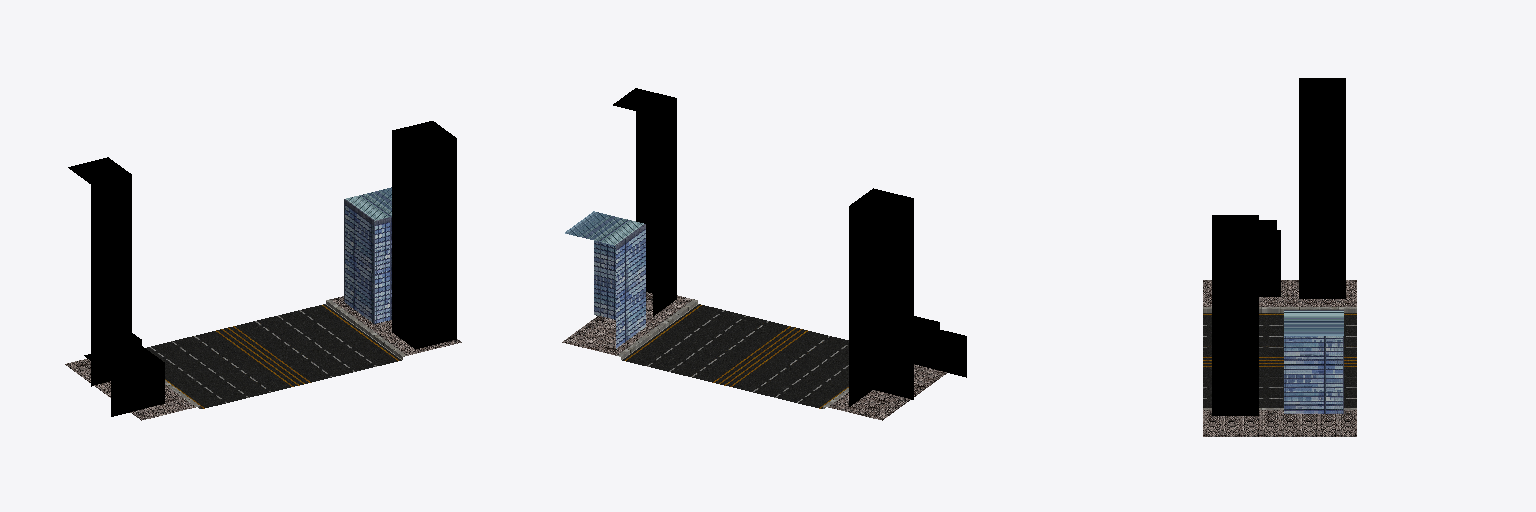
3 views of the same model, side by side, from view 1: azimuth 30°, elevation 25°; view 2: azimuth 150°, elevation 25°; view 3: azimuth 270°, elevation 25° (orthographic).
Parts seen in each view (by area): view 1: Right, Floor, Left; view 2: Floor, Left, Right; view 3: Right, Left, Floor.
Part boxes in pixels (bbox=[...]): Right: bbox=[344, 121, 456, 349]; Floor: bbox=[65, 296, 461, 420]; Left: bbox=[68, 157, 164, 416]; Floor: bbox=[562, 292, 946, 420]; Left: bbox=[849, 188, 966, 406]; Right: bbox=[565, 88, 676, 348]; Right: bbox=[1212, 215, 1343, 415]; Left: bbox=[1259, 78, 1345, 298]; Floor: bbox=[1203, 280, 1356, 436].
Size of the model in its own units: 51.51 by 29.29 by 20.
Materials: 5 (2 with a texture image).